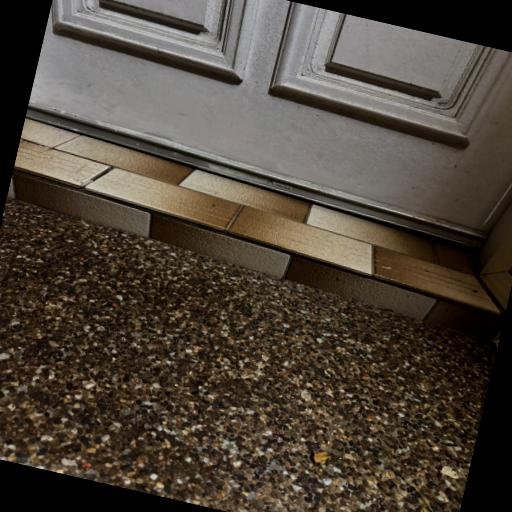step: (7, 118, 505, 339)
